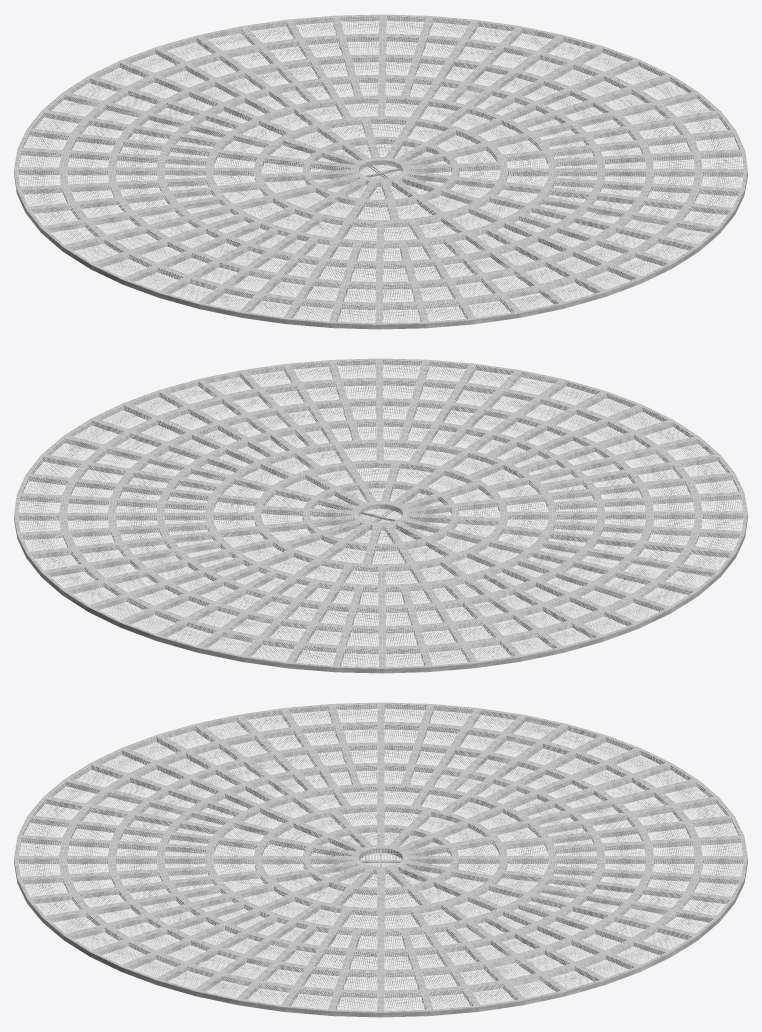
The model's file is prop_stunt.fbx.
3 views of the same model, one above another, from view 1: azimuth 30°, elevation 25°; view 2: azimuth 150°, elevation 25°; view 3: azimuth 270°, elevation 25° (orthographic).
Parts seen in each view (by area): view 1: prop_stunt; view 2: prop_stunt; view 3: prop_stunt.
Part boxes in pixels (x1,y1,x2,y2): prop_stunt: (14,14,747,329); prop_stunt: (14,358,747,673); prop_stunt: (14,702,747,1017).
Size of the model in its own units: 10952 by 79.72 by 10952.
